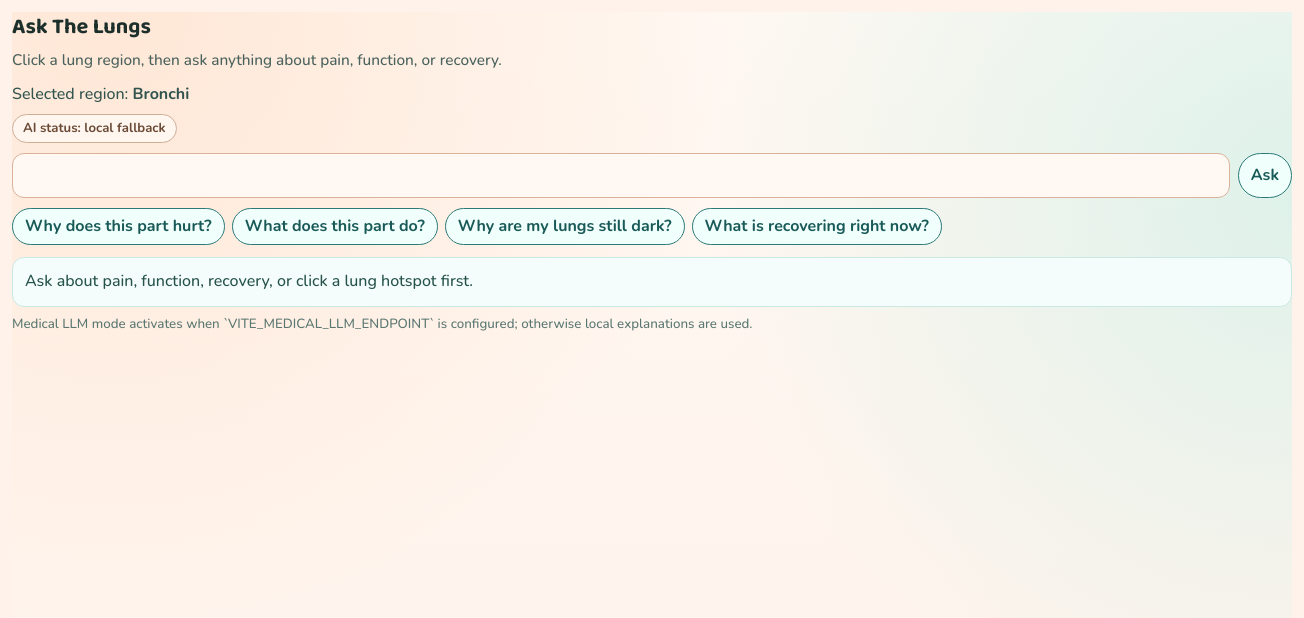
Scenario: LungCoach › renders LLM answer with urgency callout and citations
The image size is (1304, 618).
Type "Why does this part hurt?" into the field named "ask lungs a question" at {"x": 621, "y": 176}, box [12,153,1230,198]
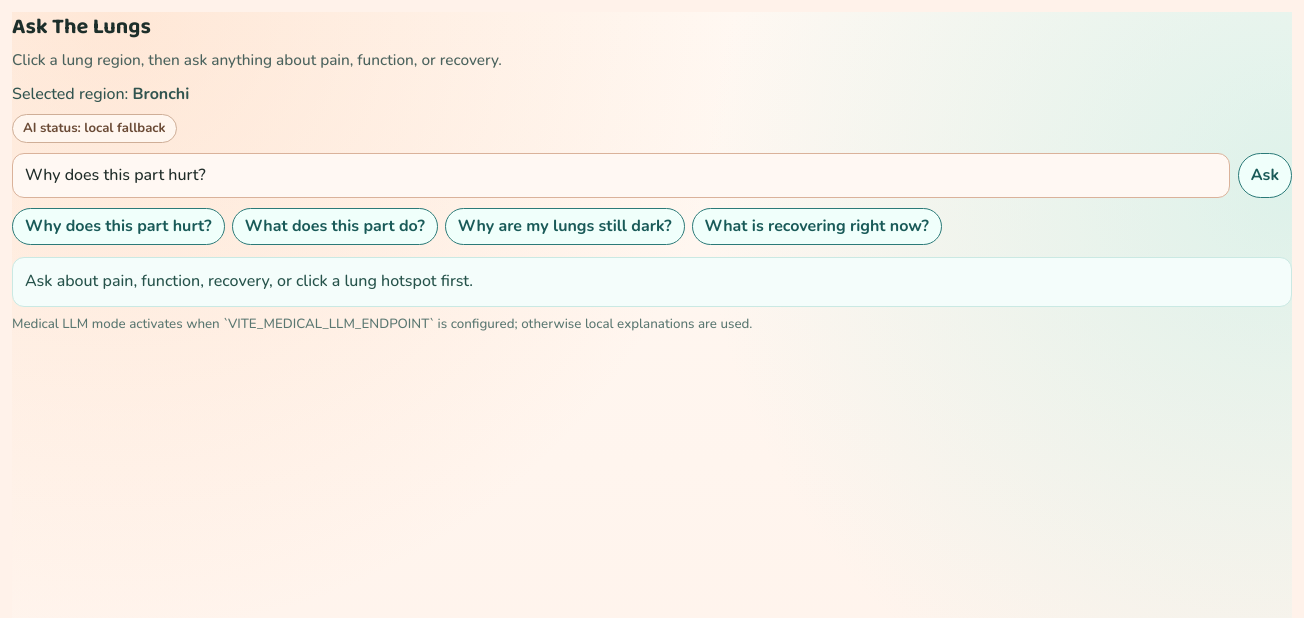
Click the button "Ask" at {"x": 1265, "y": 176}, box [1238,153,1292,198]
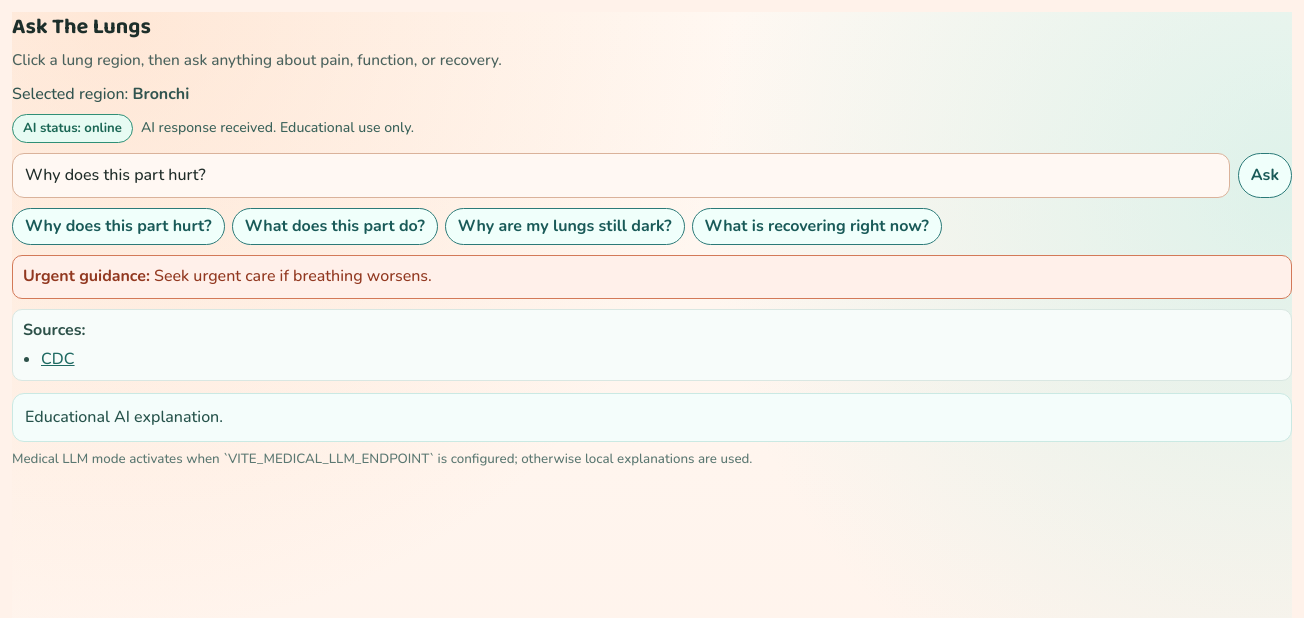
Result: the text with test id "qa-answer" reads "Educational AI explanation." at [25,406,223,428]
Result: the text "AI status: online" is shown at [12,114,133,143]
Result: the element with test id "coach-urgent-callout" shows "Seek urgent care if breathing worsens." at [154,265,432,287]
